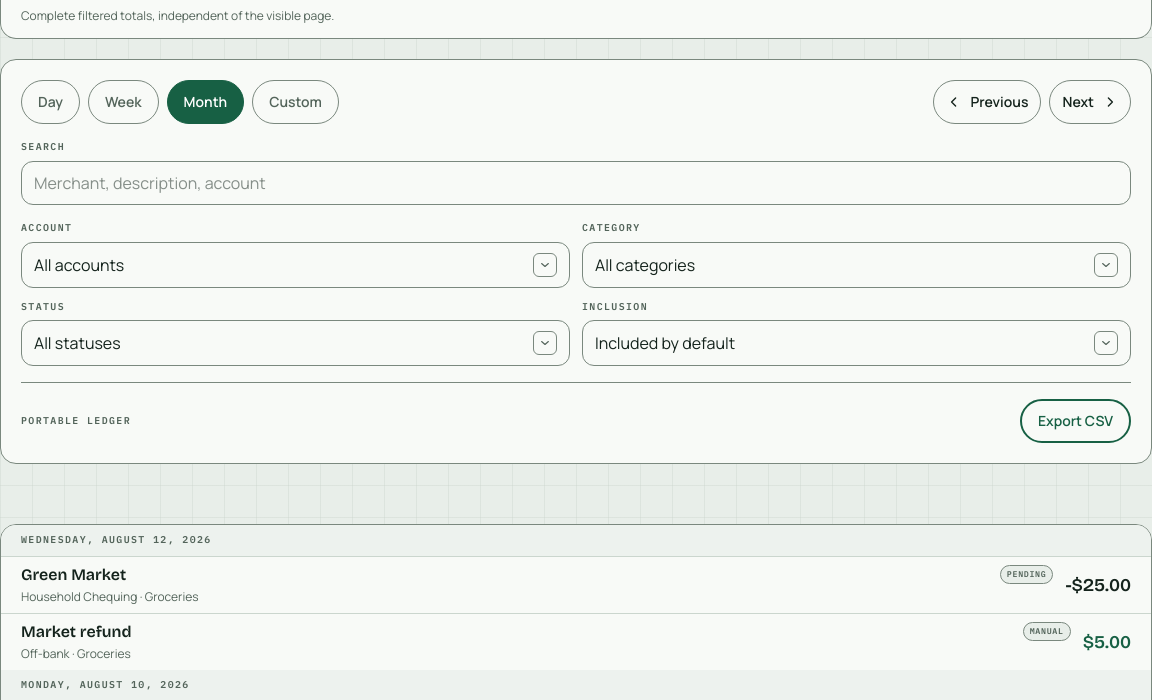
Scenario: GH-30 transaction explorer › COMP-015 names the retained filters, not the rejected ones, after a failed refresh
This screenshot has width=1152, height=700.
(page scrolled)
Click the dropdown with test id "transactions-status-filter" at (77, 343), box [21, 320, 570, 366]
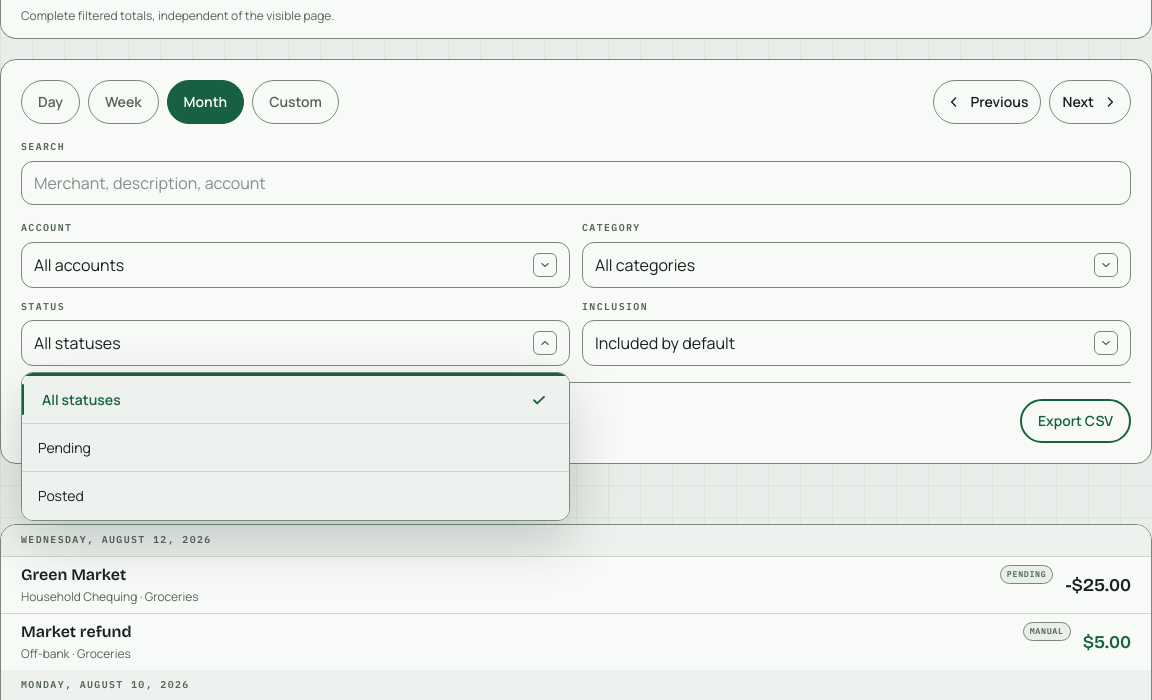
Click the option "Pending" at (64, 447), box [22, 424, 569, 472]
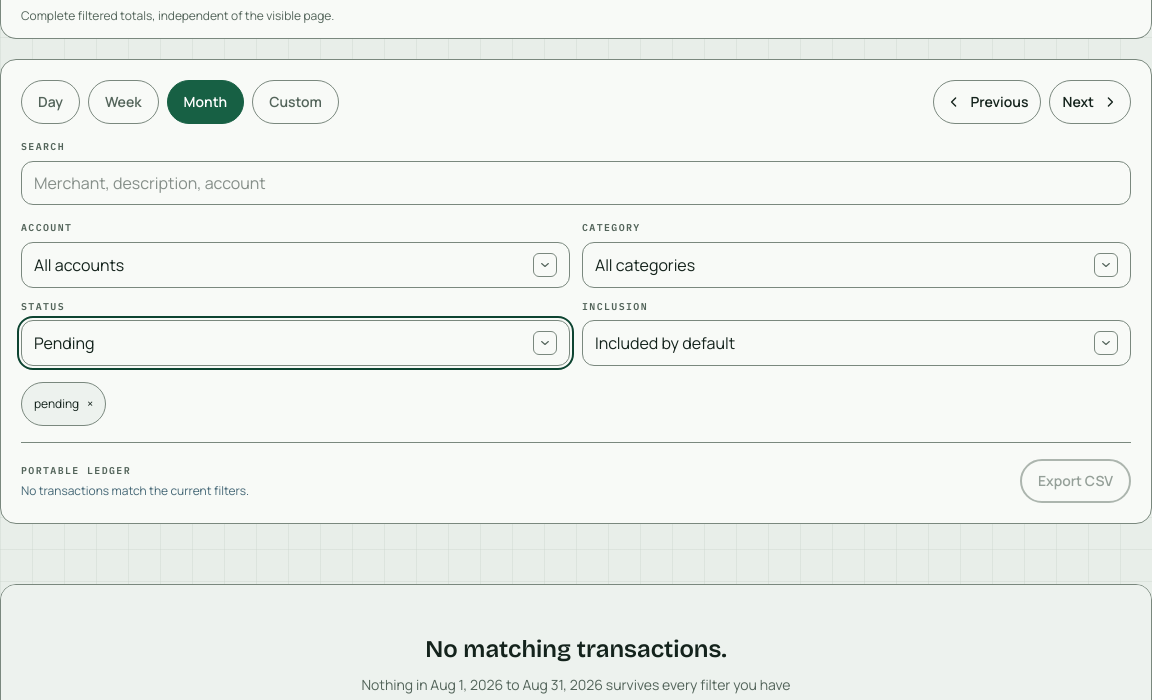
Click the dropdown with test id "transactions-status-filter" at (64, 343), box [21, 320, 570, 366]
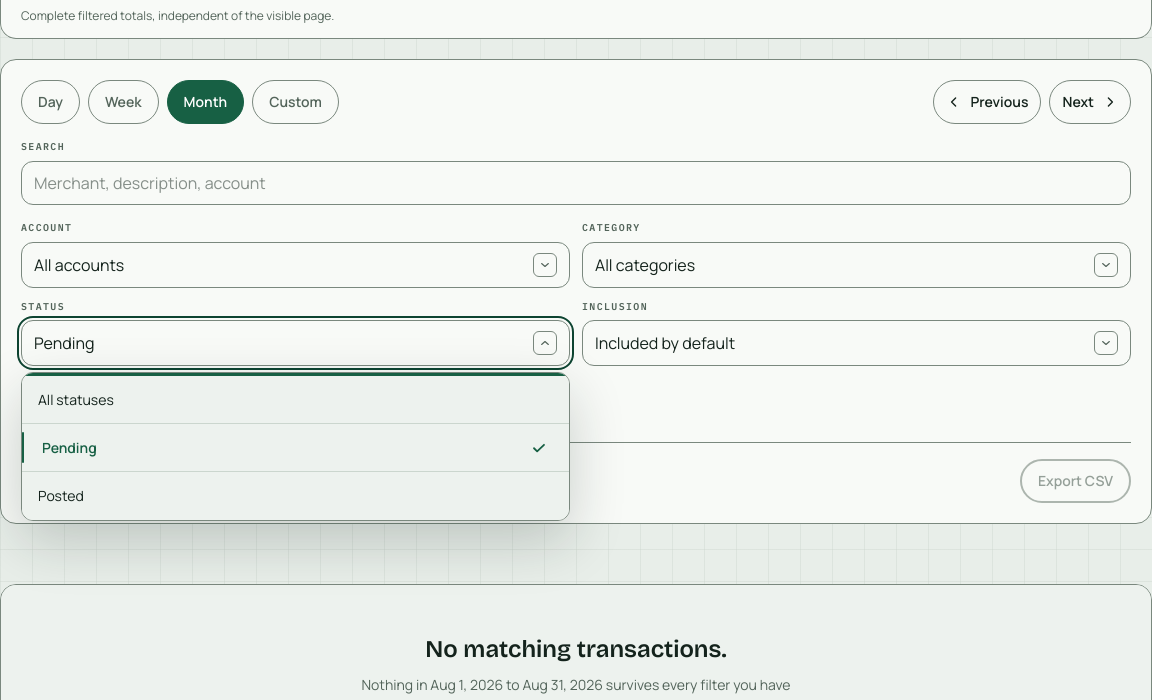
Click the option "Posted" at (61, 496), box [38, 486, 84, 505]
(page scrolled)
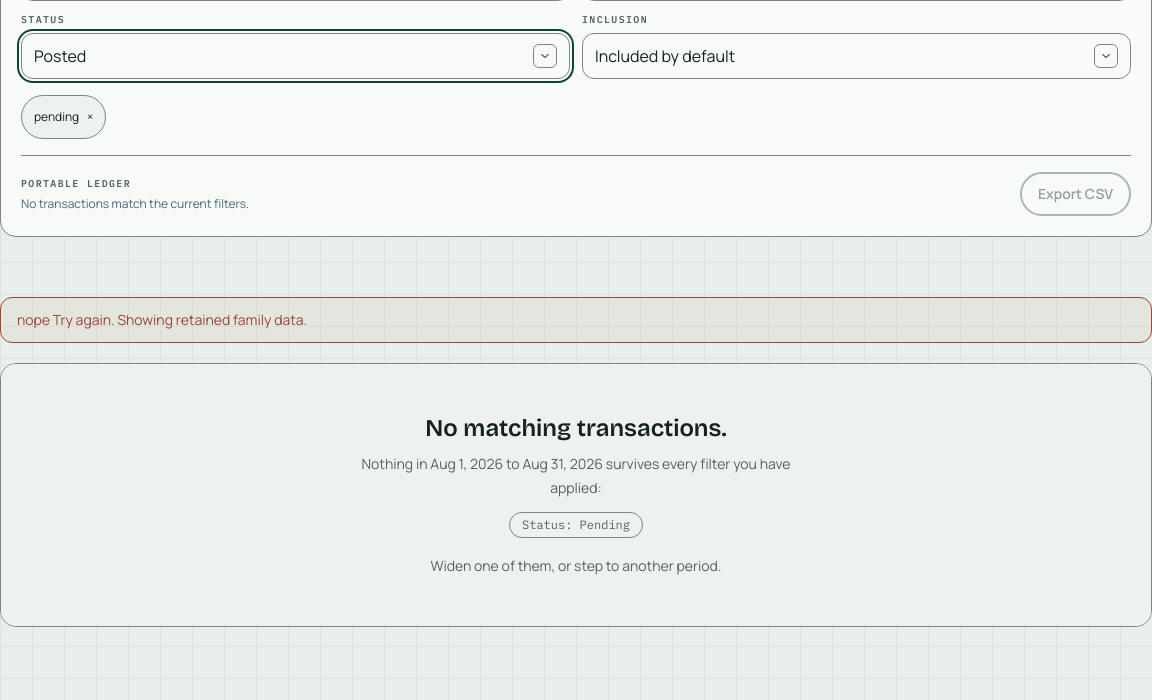
expect the element with test id "transactions-empty-state" does not show "posted": met, box [1, 364, 1151, 626]
expect the element with test id "transactions-empty-state" shows "pending": met, box [522, 517, 630, 532]
expect the message with test id "transactions-error" shows "Try again": met, box [17, 310, 307, 329]
